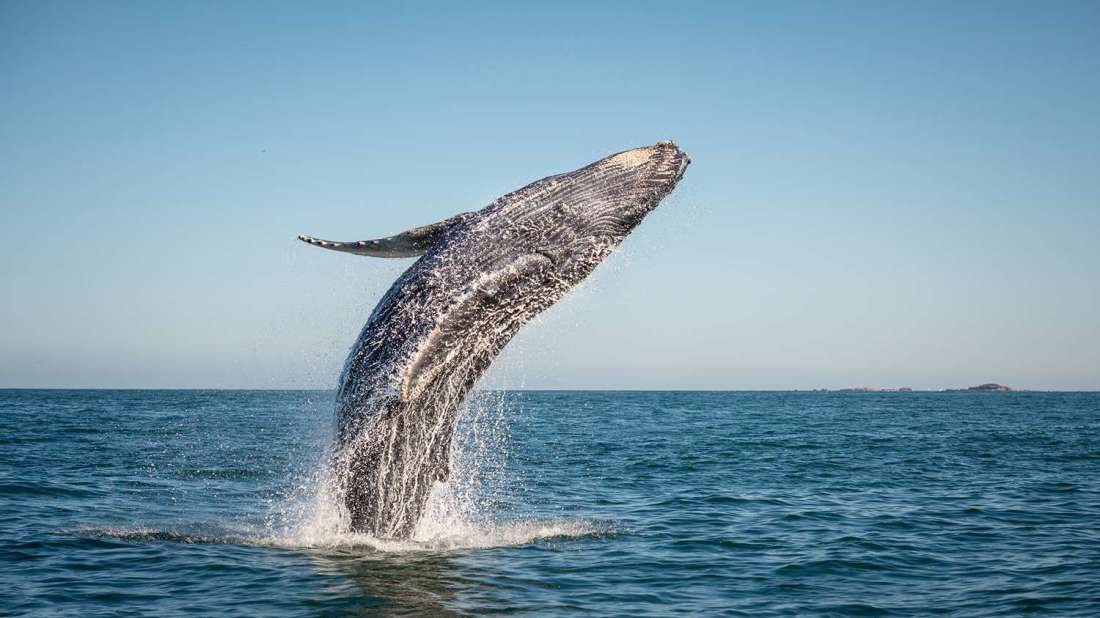humpback: (341, 136, 691, 532)
